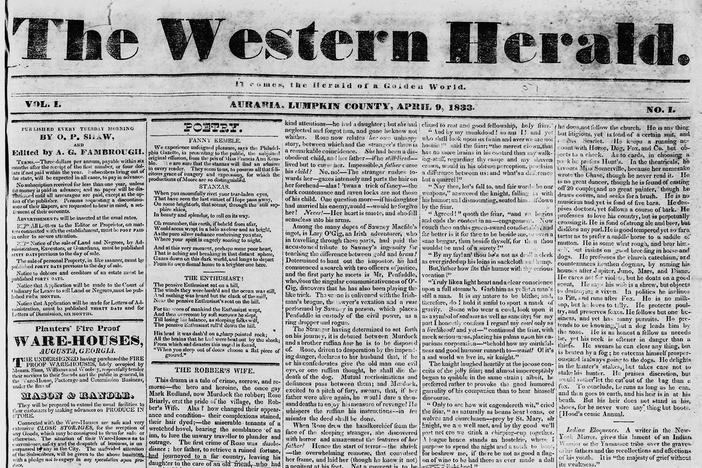news_paper: (7, 1, 700, 468)
